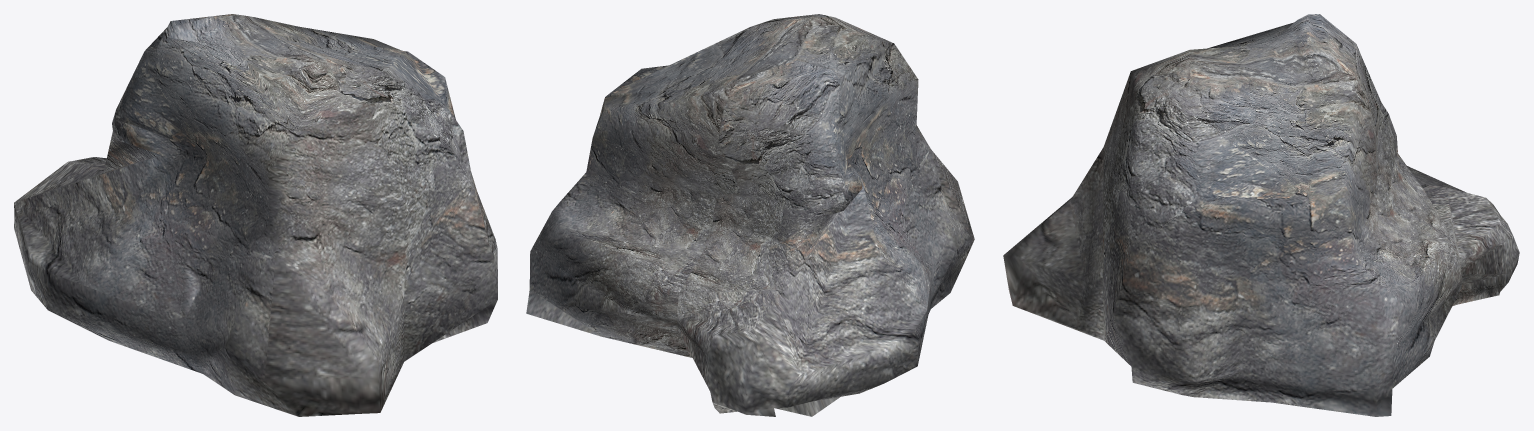
The model's file is RocksTestv1.fbx.
3 renders of one model, left to right at view 1: azimuth 30°, elevation 25°; view 2: azimuth 150°, elevation 25°; view 3: azimuth 270°, elevation 25°, orthographic. The views are drawn at different scales.
Visible parts, largest first — view 1: Rocks:obj1; view 2: Rocks:obj1; view 3: Rocks:obj1.
Part boxes in pixels (box(x1,y1,x2,y2)): Rocks:obj1: box(14, 14, 497, 416); Rocks:obj1: box(526, 14, 974, 416); Rocks:obj1: box(1003, 14, 1519, 416).
Bounding box in the file's own units: 2.19 × 1.68 × 2.68.
